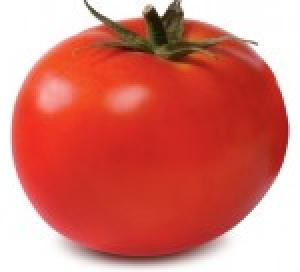tomato: (11, 19, 290, 258)
